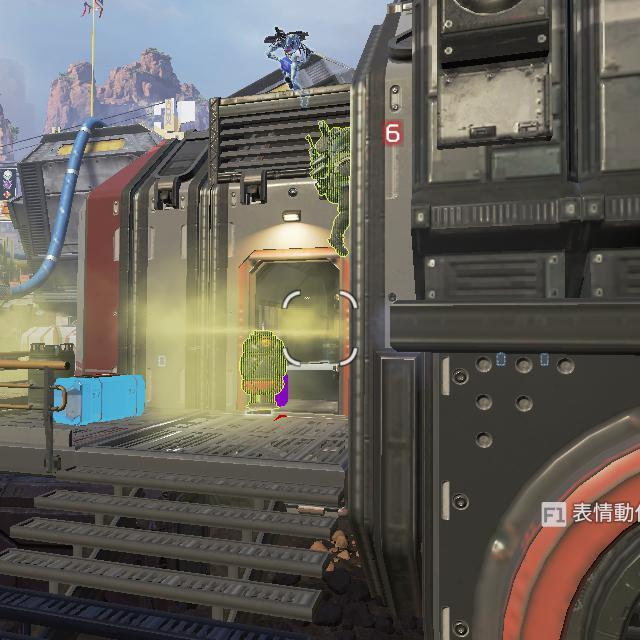avatar: (307, 123, 351, 259), (264, 25, 313, 92)
